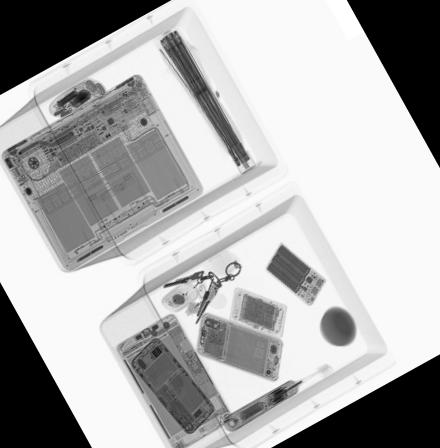Powerbank: (266, 241, 323, 303), (230, 288, 287, 337)
